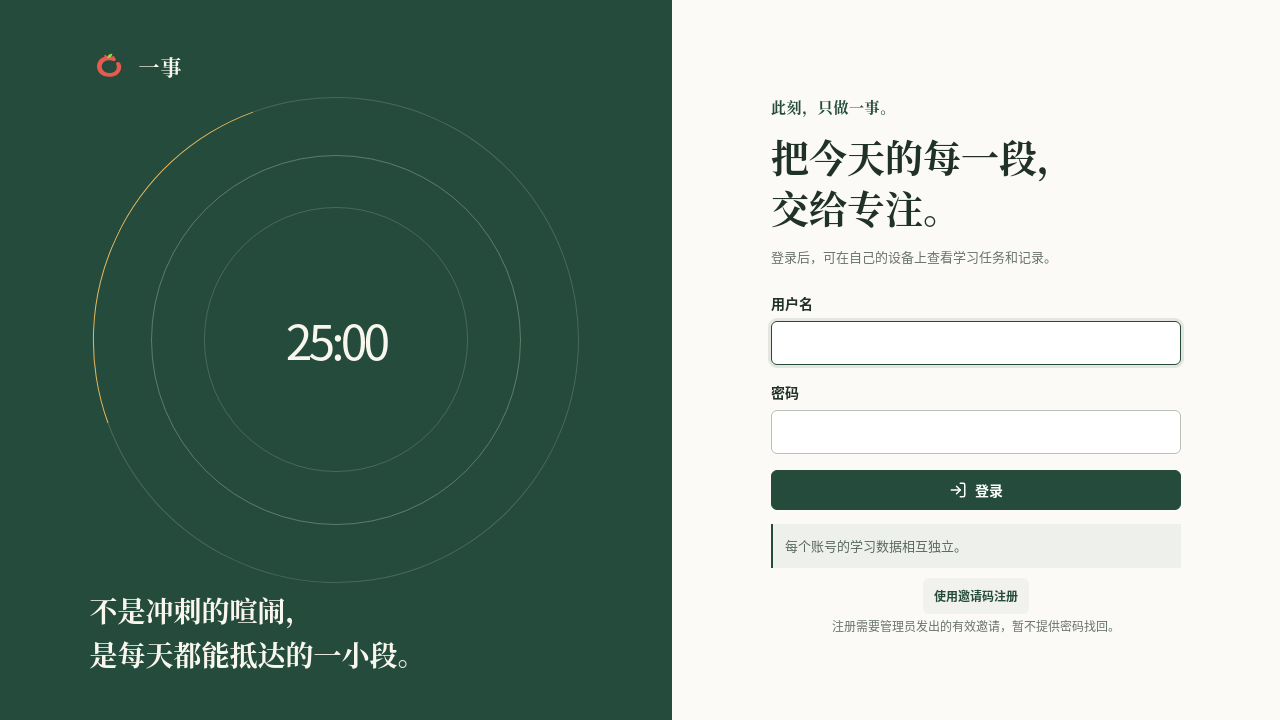
Scenario: authentication experience › shows safe login feedback for {"code":"NETWORK_ERROR","name":"NetworkError"}
The image size is (1280, 720).
In the field labelled "用户名": (976, 343) [771,321,1181,365], type "learner"
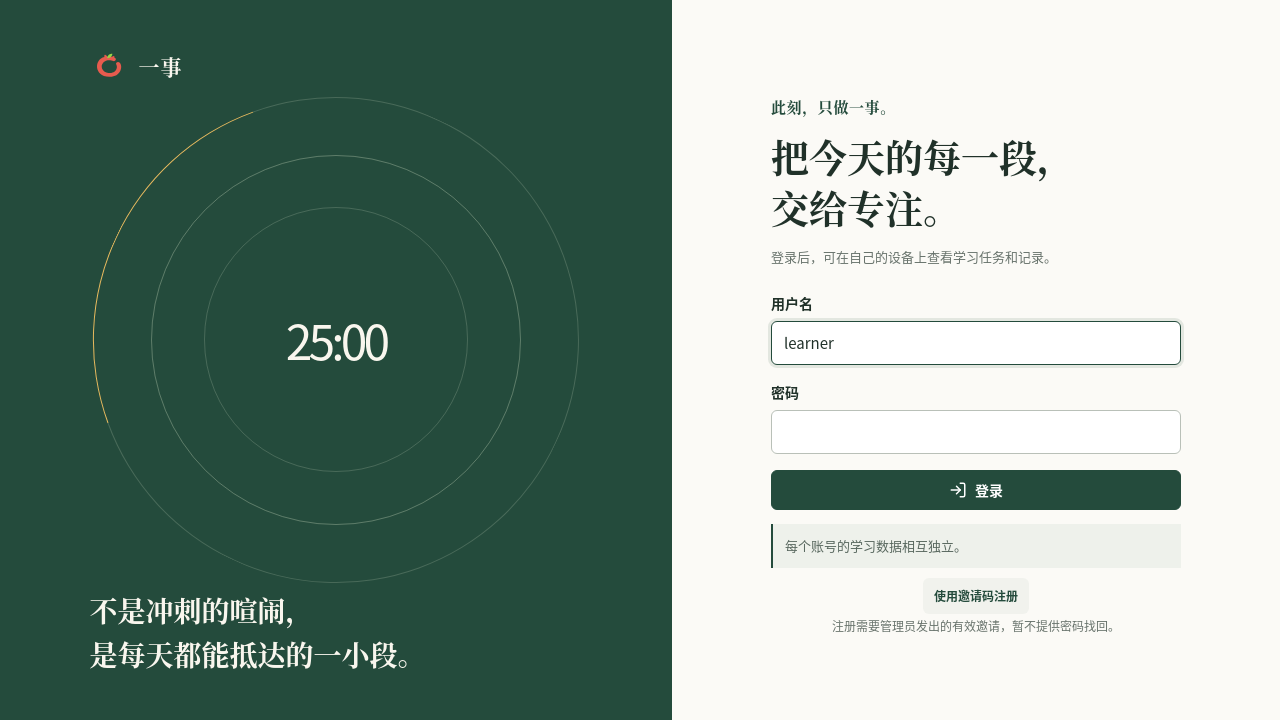
In the password field labelled "密码": (976, 432) [771,410,1181,454], type "wrong password"
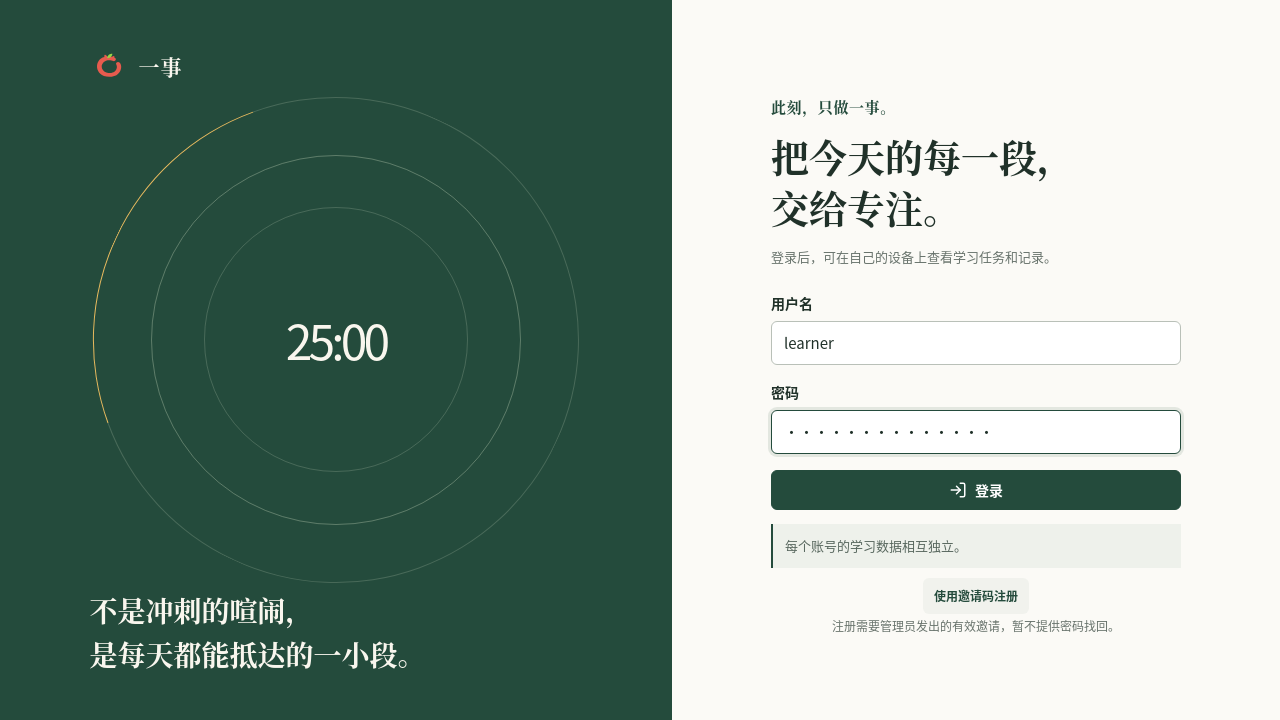
Click the button "登录": (976, 490) [771,470,1181,510]
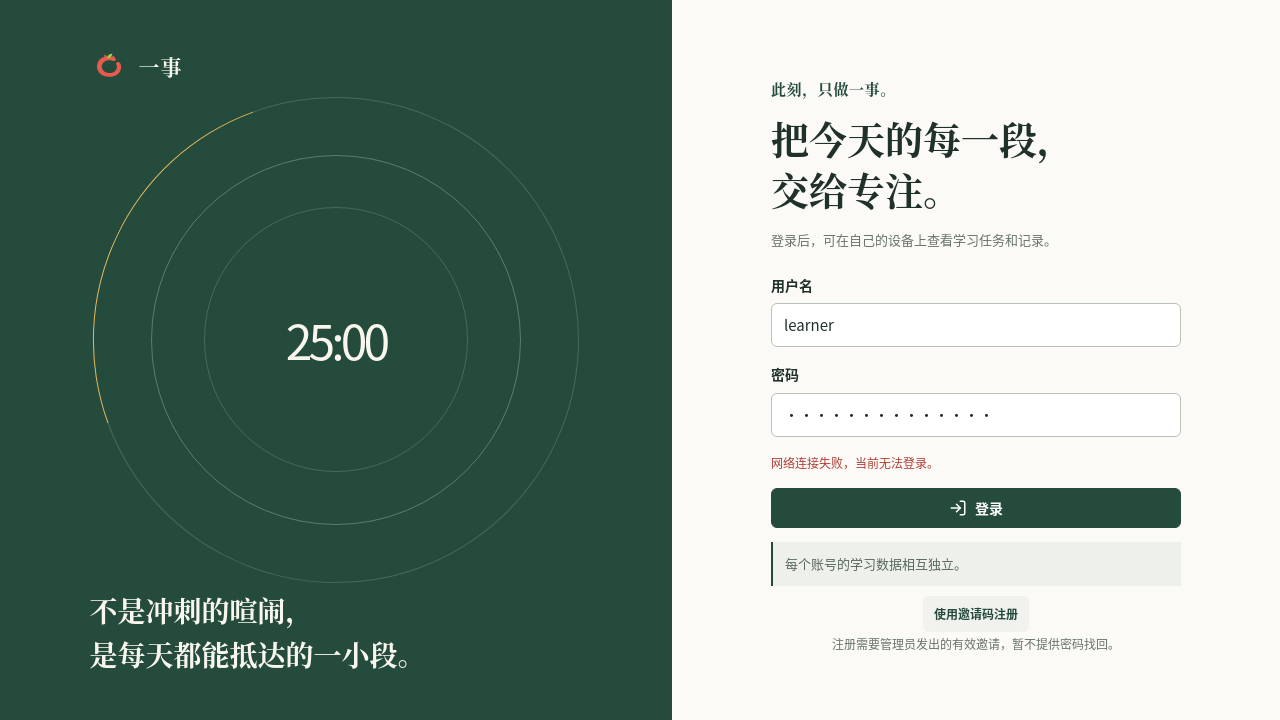
Check: the message shows "网络连接失败", box [771,454,939,471]
